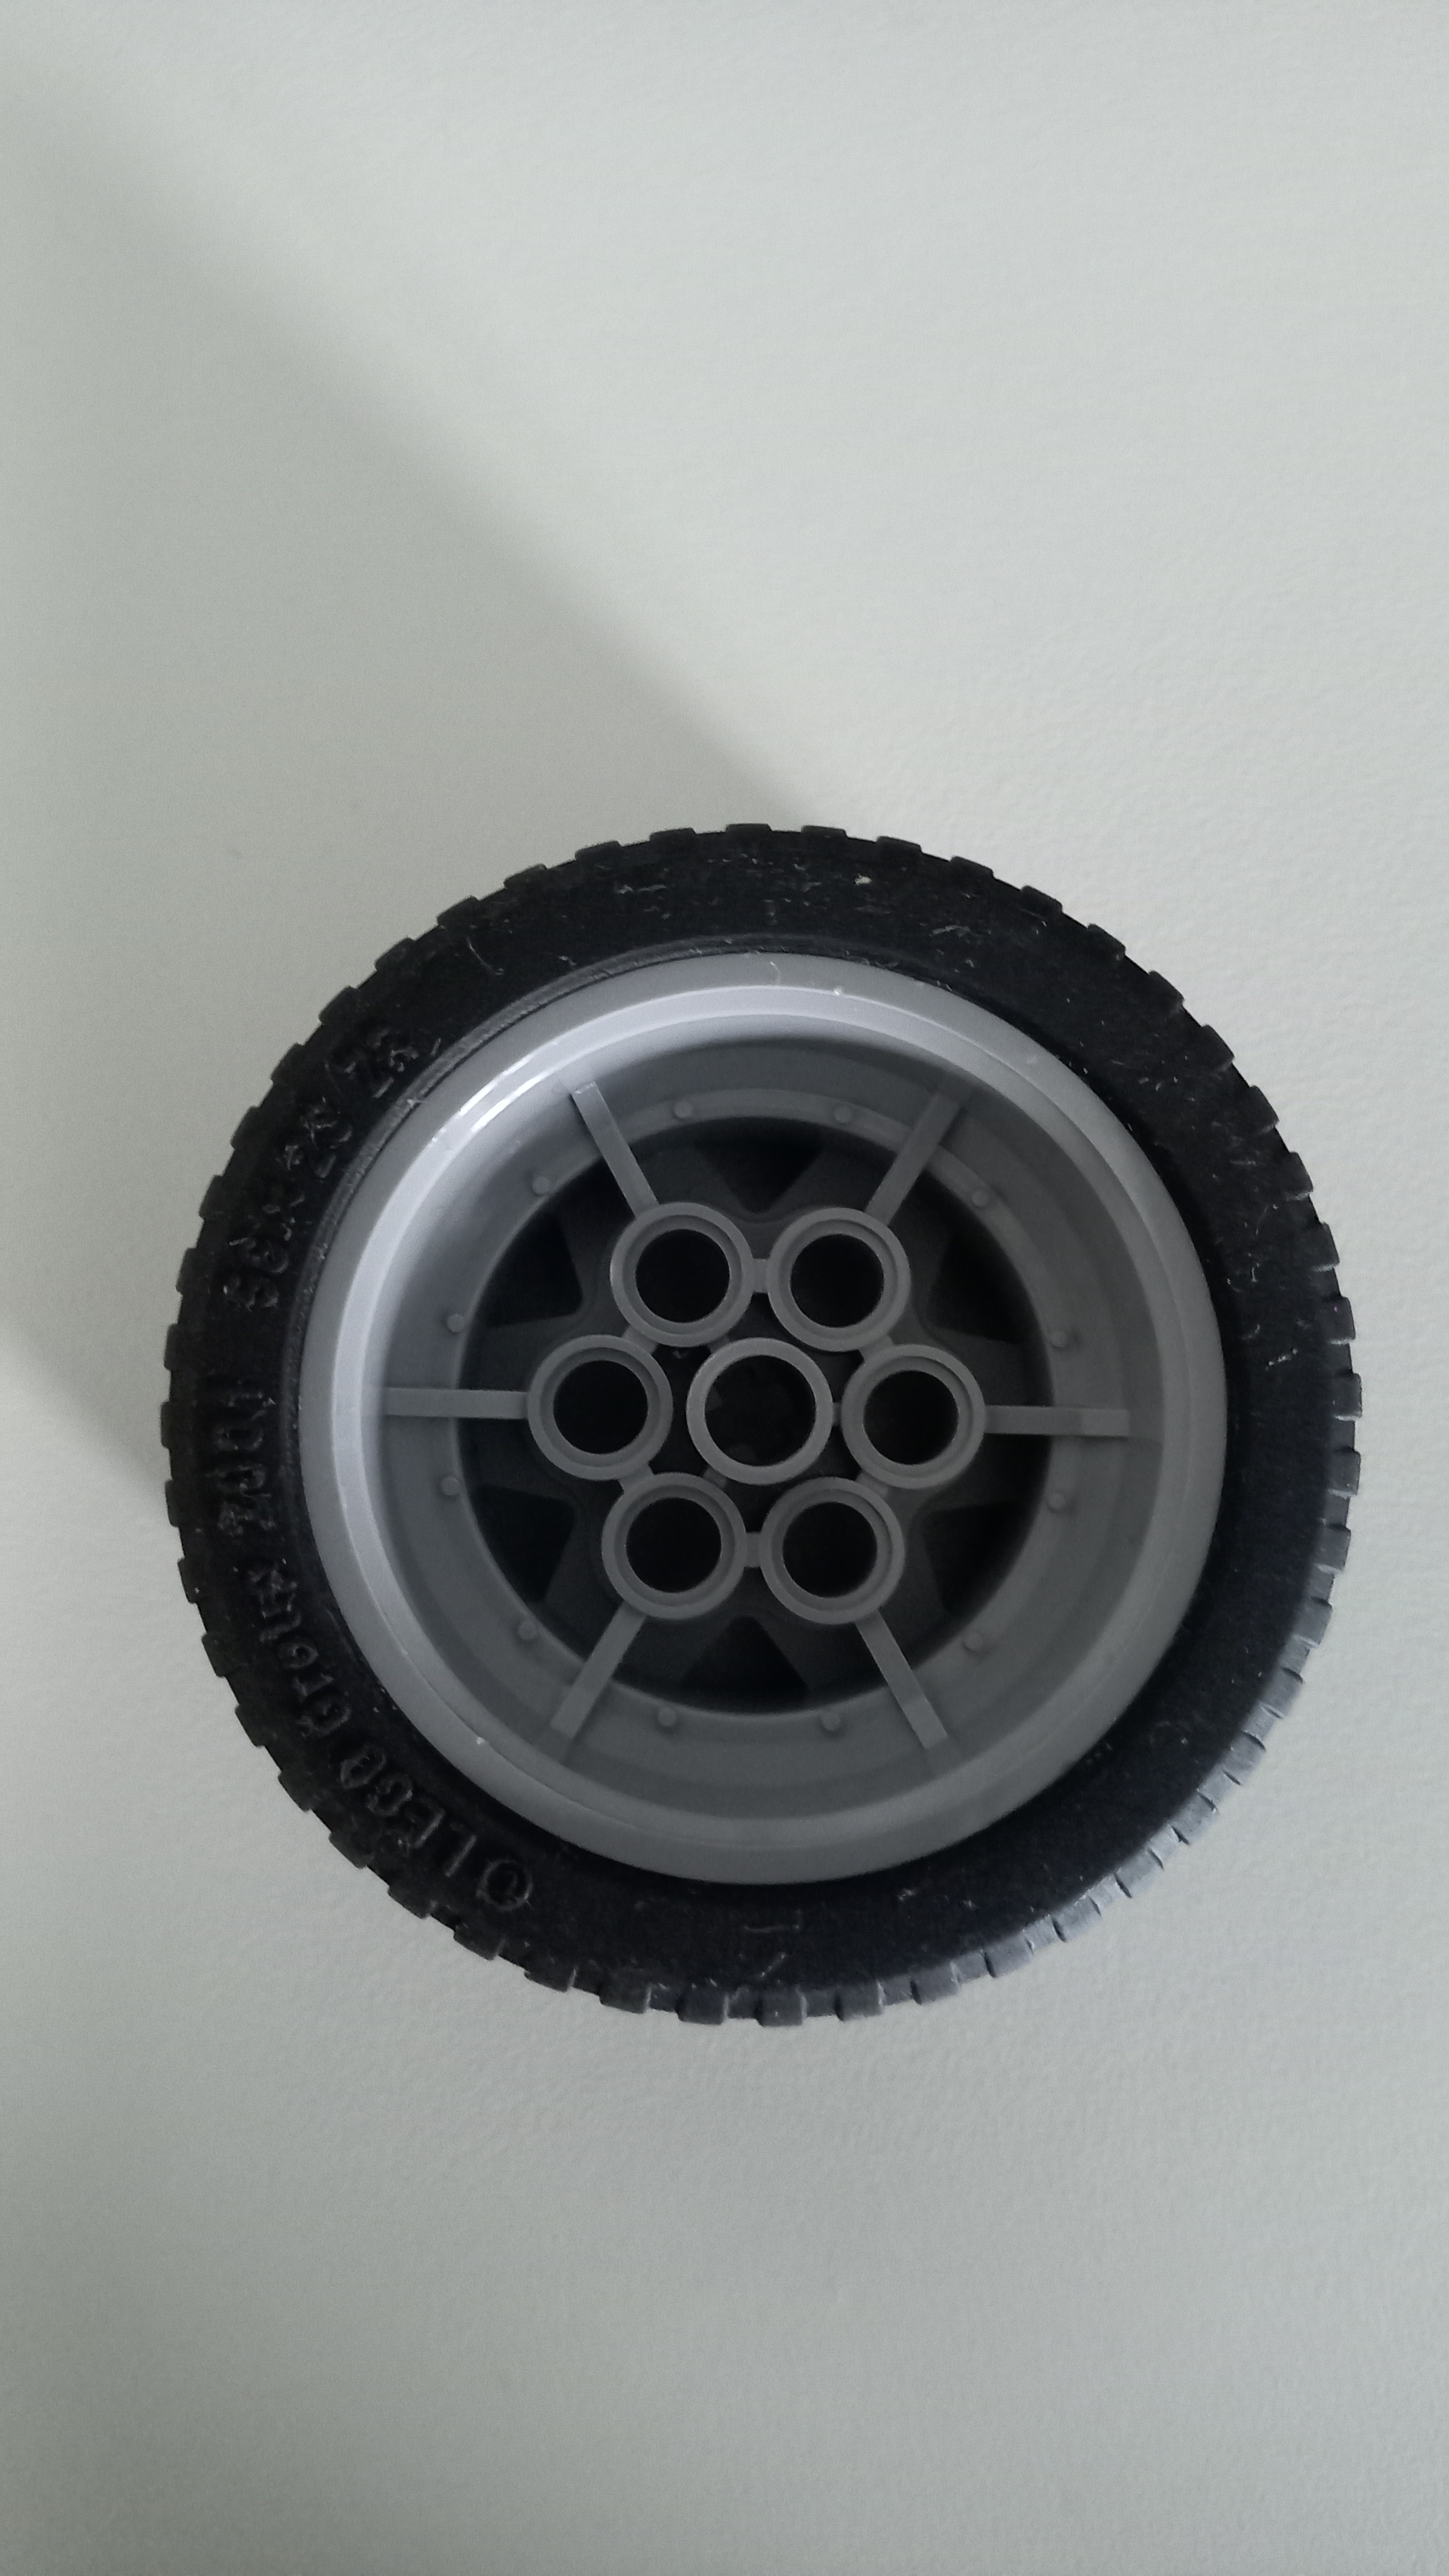Rad: (117, 800, 1384, 2047)
